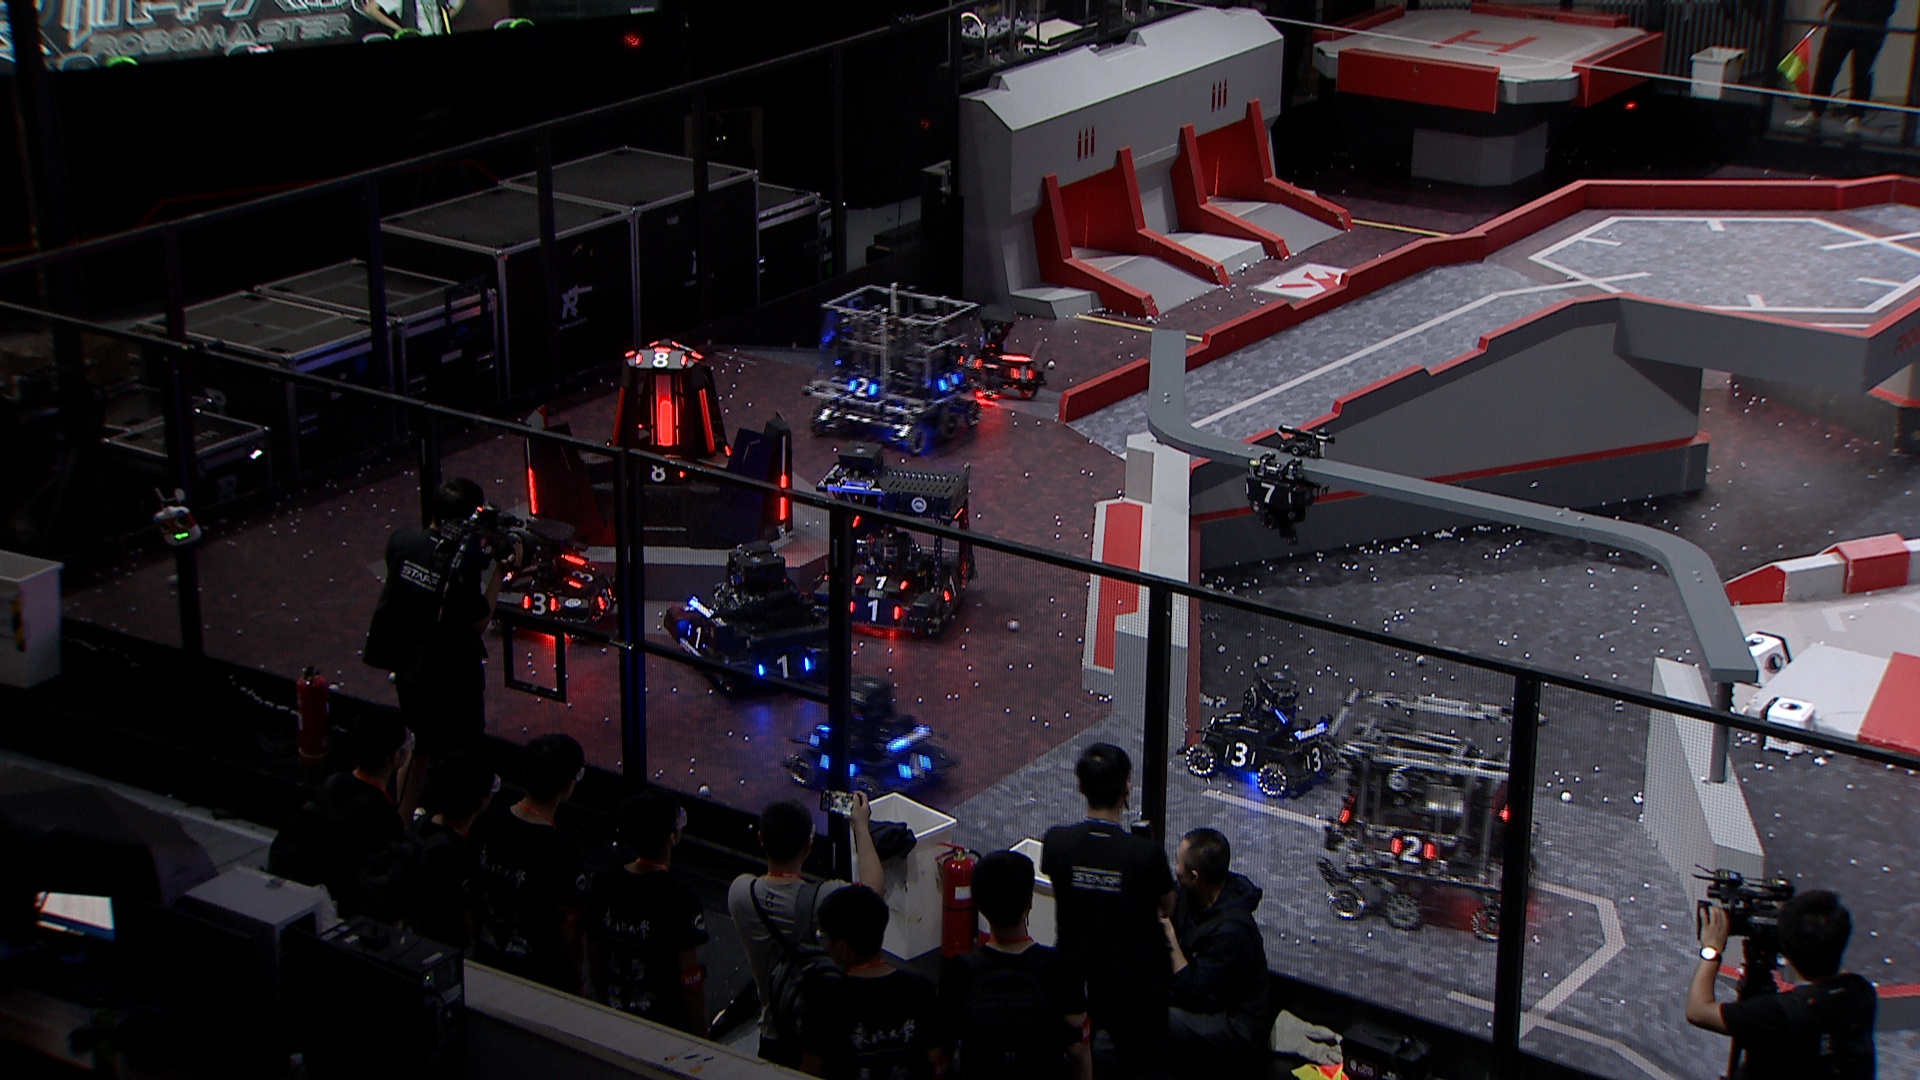armor: (754, 651, 812, 684), (647, 394, 680, 446), (1389, 833, 1437, 864), (1244, 480, 1295, 508), (698, 389, 719, 455), (895, 749, 935, 783), (847, 599, 903, 622), (632, 349, 688, 372), (852, 570, 911, 591), (638, 460, 688, 483), (1221, 740, 1261, 767), (564, 560, 596, 593), (611, 384, 626, 448), (524, 465, 542, 517), (940, 570, 967, 605), (680, 622, 711, 651), (522, 593, 558, 617), (847, 375, 878, 400), (778, 472, 793, 524), (1302, 744, 1328, 771), (1006, 365, 1036, 385), (1215, 708, 1244, 727), (595, 585, 613, 613), (936, 371, 960, 392), (959, 351, 984, 371)
base: (516, 339, 799, 546)
car: (1316, 688, 1556, 940), (808, 444, 978, 636), (799, 282, 982, 458), (666, 542, 844, 695), (787, 679, 959, 806), (1182, 666, 1342, 800), (485, 518, 618, 642), (945, 311, 1048, 404)
watcher: (1240, 422, 1335, 546)
